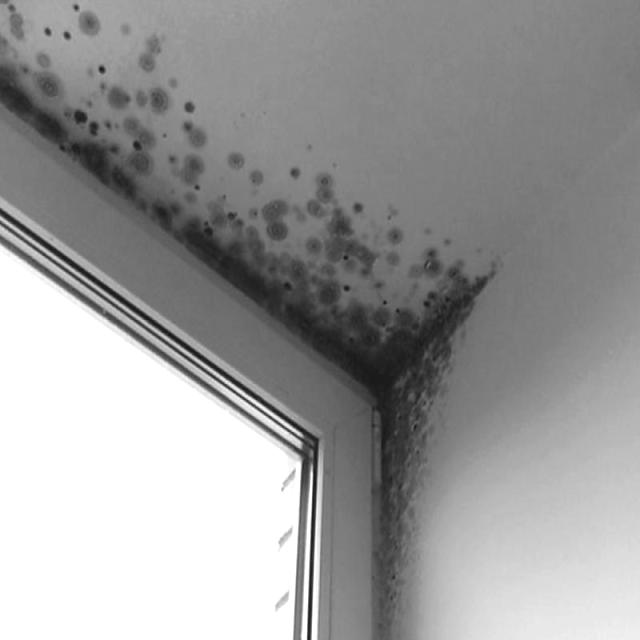stain marks: (0, 0, 314, 352), (322, 158, 510, 640)
